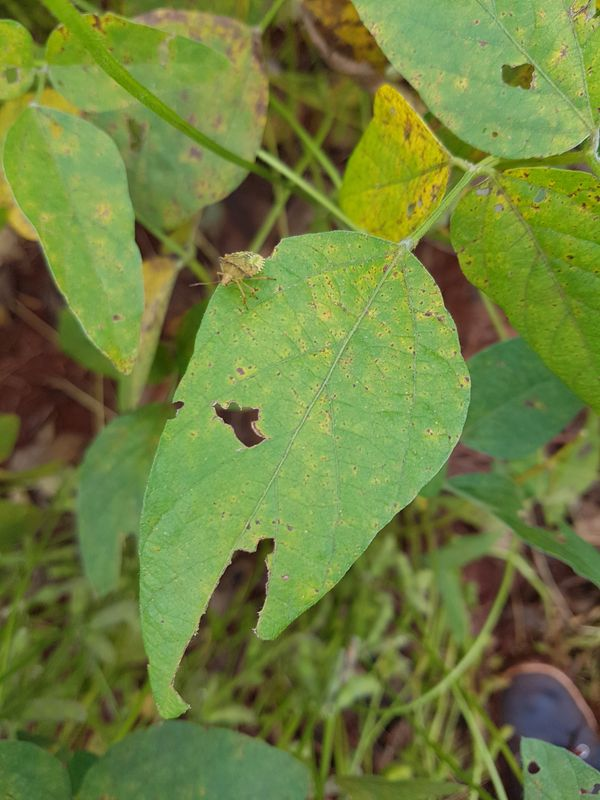Euschistus_heros_ninfa: (196, 244, 281, 313)
